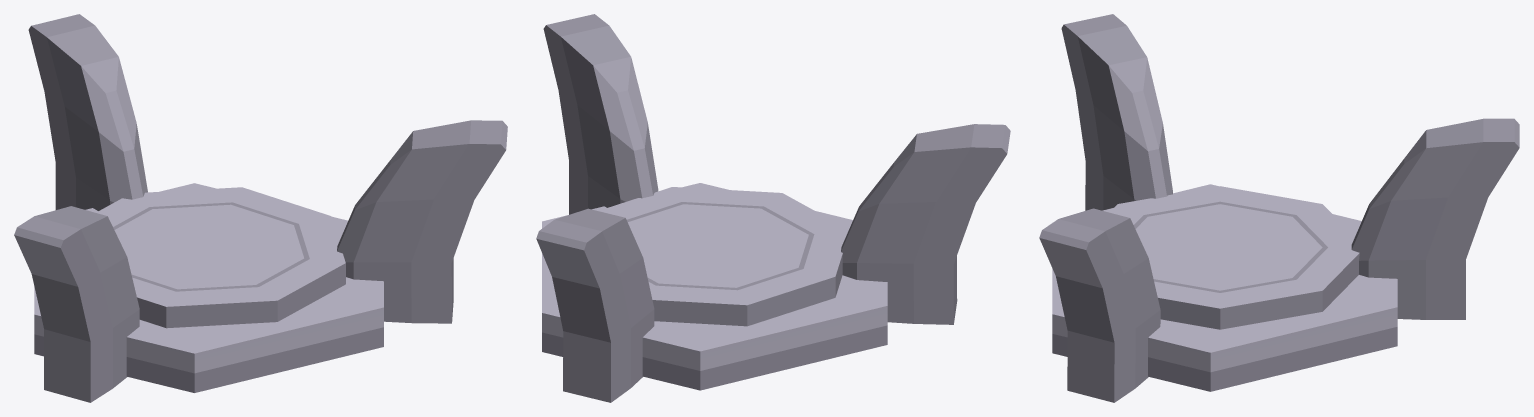
File: Stand_2.fbx
The picture shows the model from 3 angles, left to right: view 1: azimuth 30°, elevation 25°; view 2: azimuth 150°, elevation 25°; view 3: azimuth 270°, elevation 25°; orthographic projection.
Visible parts, largest first — view 1: Circle.005; view 2: Circle.005; view 3: Circle.005.
Part boxes in pixels (x1,y1,x2,y2): Circle.005: [14, 14, 507, 402]; Circle.005: [536, 14, 1010, 402]; Circle.005: [1039, 14, 1519, 402].
Bounding box in the file's own units: 1.57 × 1.37 × 0.5617.
